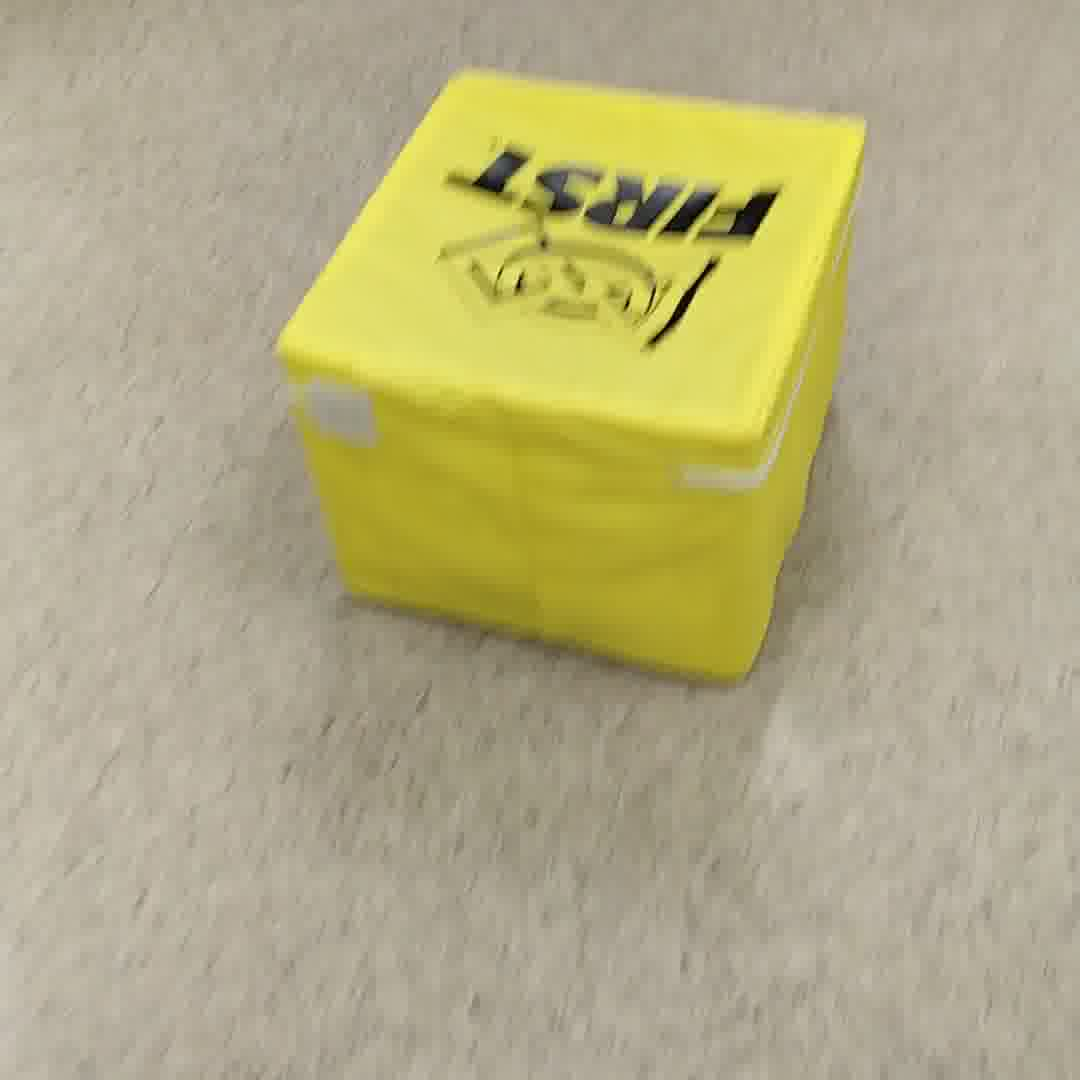box: (273, 52, 876, 696)
